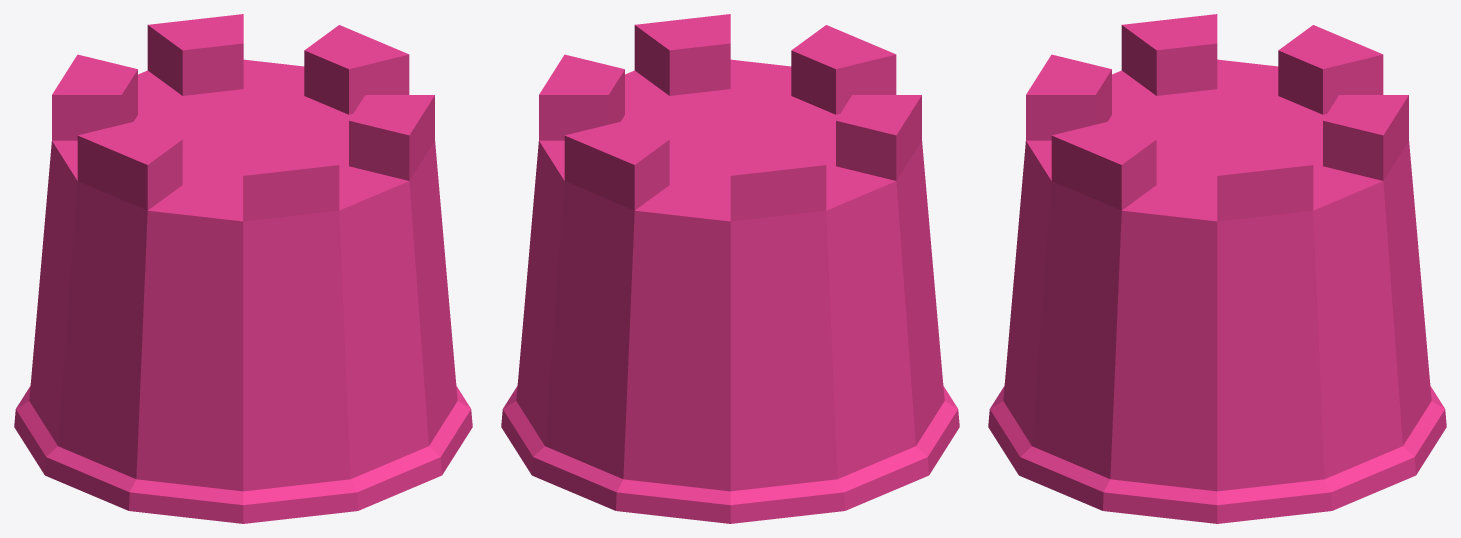
File: Mold_03.fbx
3 renders of one model, left to right at view 1: azimuth 30°, elevation 25°; view 2: azimuth 150°, elevation 25°; view 3: azimuth 270°, elevation 25°, orthographic.
Parts seen in each view (by area): view 1: Mold_03; view 2: Mold_03; view 3: Mold_03.
Boxes of the visible parts, x1,y1,x2,y2 form: Mold_03: [14, 14, 472, 523]; Mold_03: [501, 14, 959, 523]; Mold_03: [988, 14, 1446, 523].
Size of the model in its own units: 9.31 by 7.44 by 9.31.
